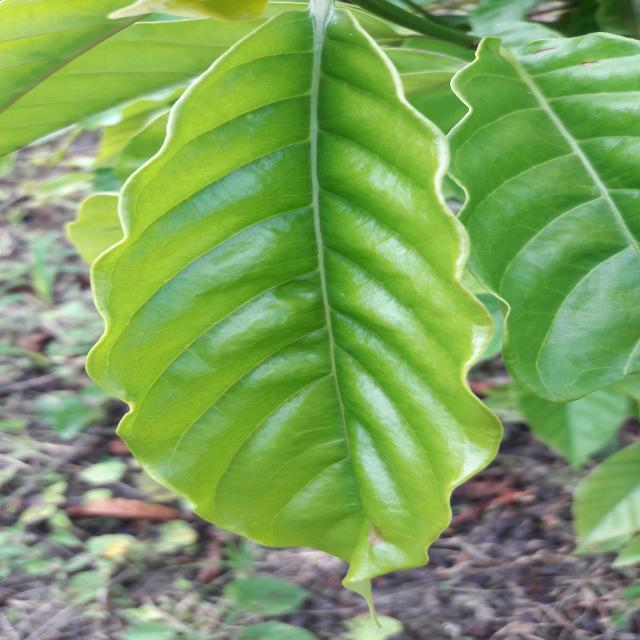Sanas: (86, 0, 503, 587)
